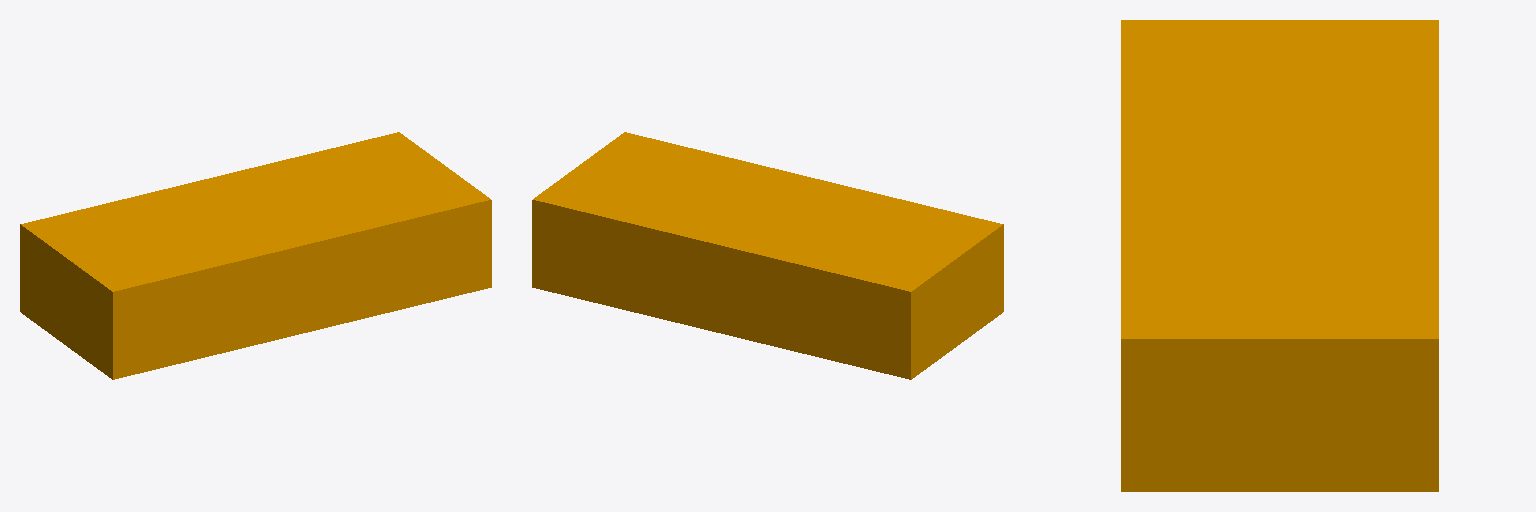
The robot description file, URDF, robot "surface":
<?xml version="1.0"?>
<robot name="surface">
  <link name="base_link">

    <collision>
      <geometry>
        <box size="0.45 0.19 0.1"/>
      </geometry>
    </collision>

    <inertial>
      <mass value="1"/>
    	<inertia ixx="1" ixy="0" ixz="0" iyy="1" iyz="0" izz="1"/>
  	</inertial>

    <visual>
      <geometry>
        <box size="0.45 0.19 0.1"/>
      </geometry>
    </visual>

  </link>
</robot>

--- Render facts (derived) ---
3 views of the same robot in one strip: view 1: azimuth 30°, elevation 25°; view 2: azimuth 150°, elevation 25°; view 3: azimuth 270°, elevation 25° (orthographic).
Model surface with 1 links and 0 joints (none), rooted at base_link, posed every joint at zero.
Visible links, largest first — view 1: base_link; view 2: base_link; view 3: base_link.
Link boxes in pixels (x1,y1,x2,y2): base_link: (20, 132, 491, 379); base_link: (532, 132, 1003, 379); base_link: (1121, 20, 1438, 491).
Bounding box of the posed robot: 0.45 × 0.19 × 0.1 m (x, y, z).
Geometry: primitives only (box / cylinder / sphere), no mesh files.